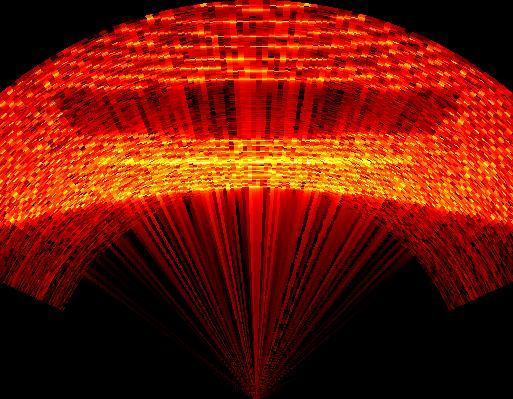pipe: (53, 76, 468, 171)
